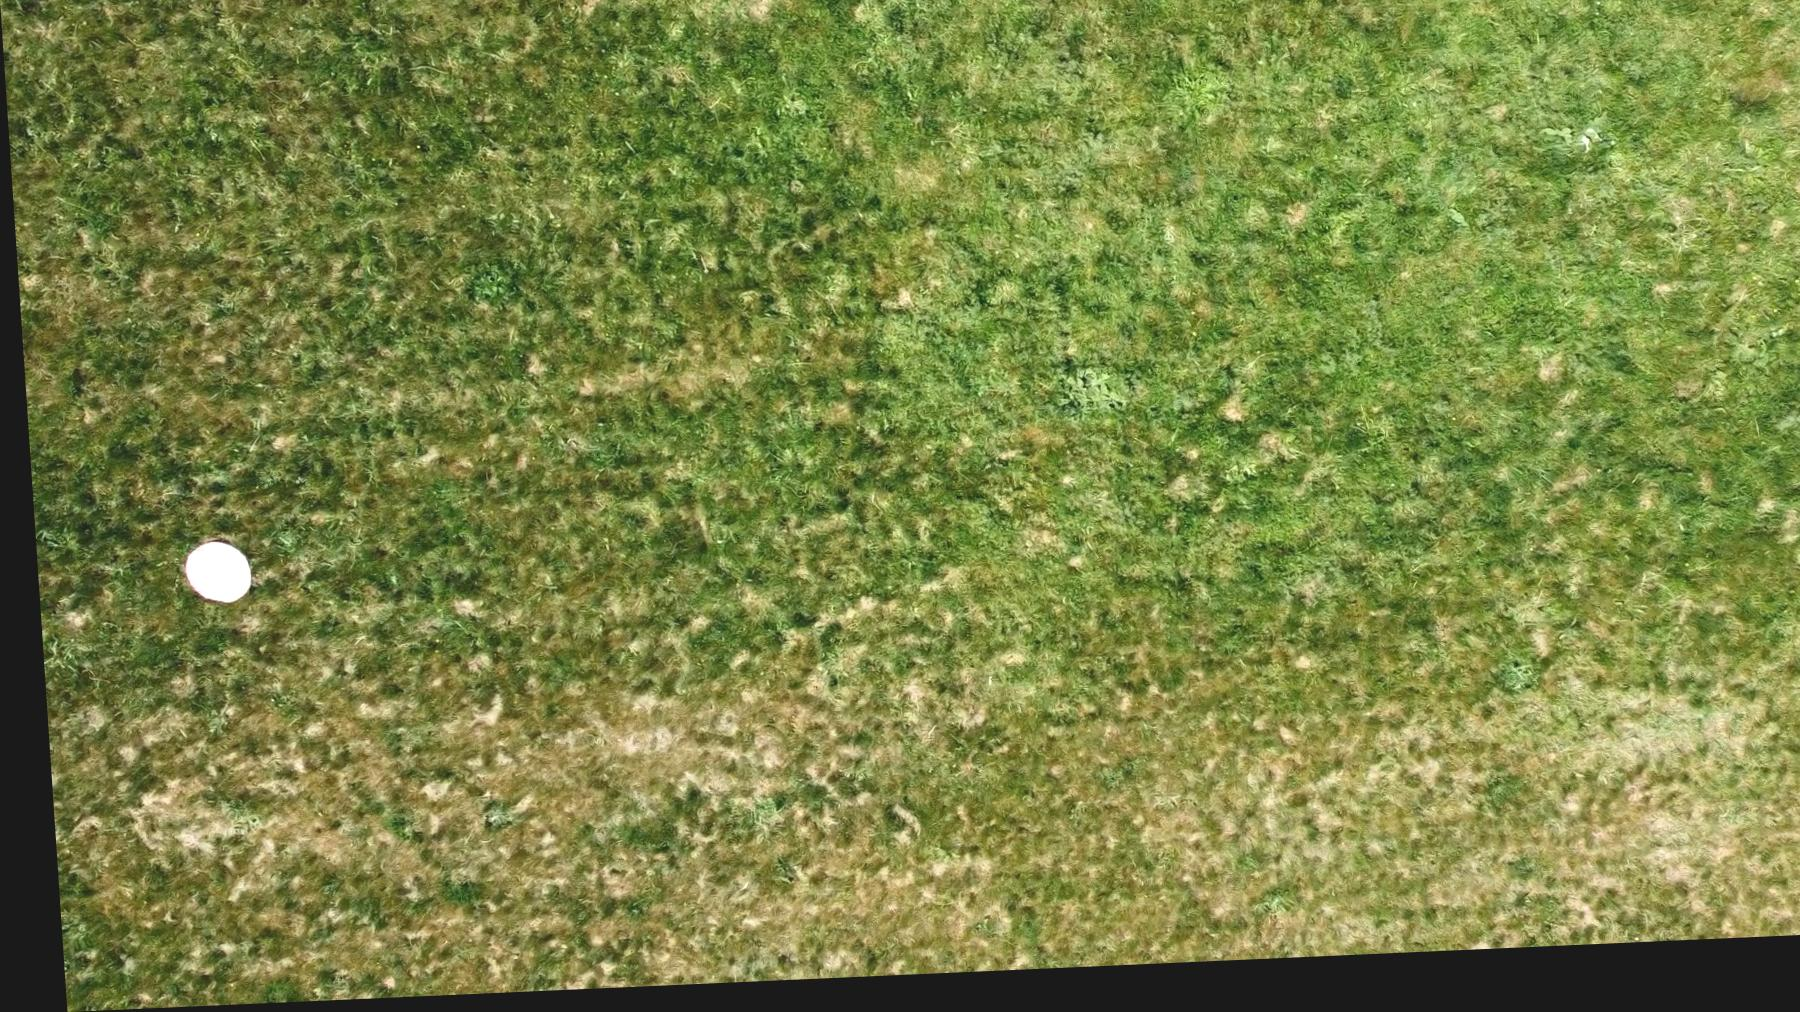Red: (171, 538, 250, 609)
